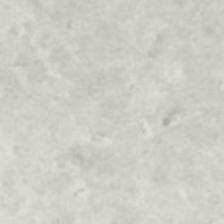Non_Crack: (11, 10, 224, 178)
